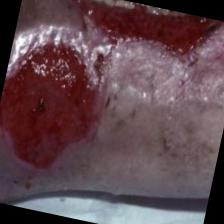wound-ulser: (0, 33, 115, 187), (31, 0, 224, 69)
